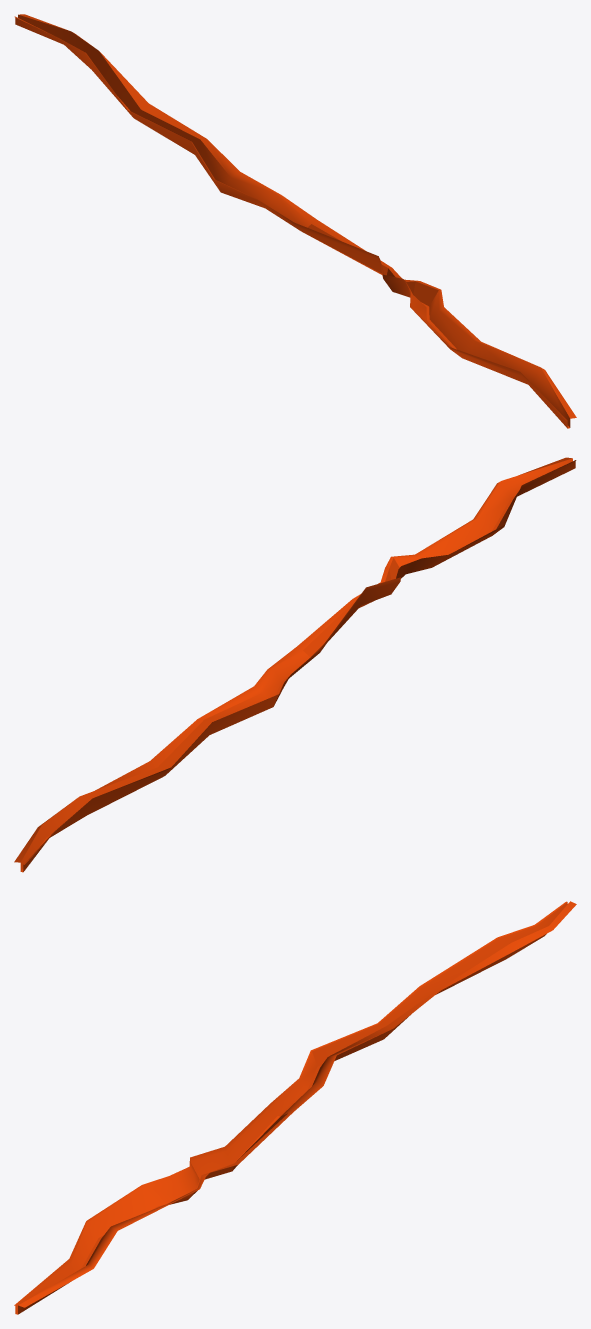
The model's file is Prop_Fissure01_Unwrapped.fbx.
3 renders of one model, top to bottom at view 1: azimuth 30°, elevation 25°; view 2: azimuth 150°, elevation 25°; view 3: azimuth 330°, elevation 25°, orthographic.
Visible parts, largest first — view 1: Prop_Fissure01_Unwrapped; view 2: Prop_Fissure01_Unwrapped; view 3: Prop_Fissure01_Unwrapped.
Boxes of the visible parts, x1=… form: Prop_Fissure01_Unwrapped: x1=14, y1=14, x2=576, y2=428; Prop_Fissure01_Unwrapped: x1=14, y1=457, x2=576, y2=872; Prop_Fissure01_Unwrapped: x1=14, y1=901, x2=576, y2=1314.
Size of the model in its own units: 241 by 97.87 by 3951.
